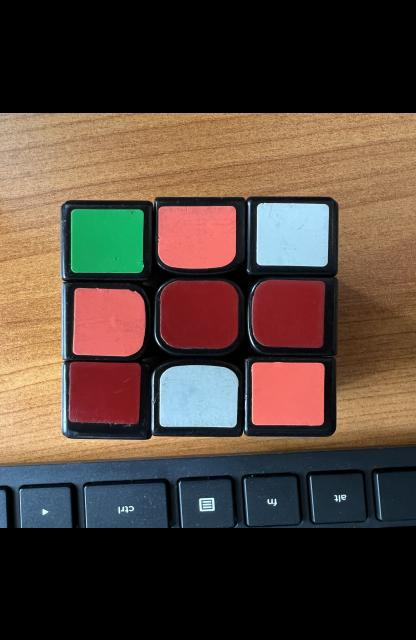Green: (70, 208, 144, 272)
Orange: (73, 286, 146, 356), (158, 205, 237, 268), (252, 361, 324, 425)
Red: (160, 280, 239, 347), (252, 279, 326, 347), (68, 361, 142, 423)
White: (159, 363, 238, 426), (257, 202, 329, 266)
